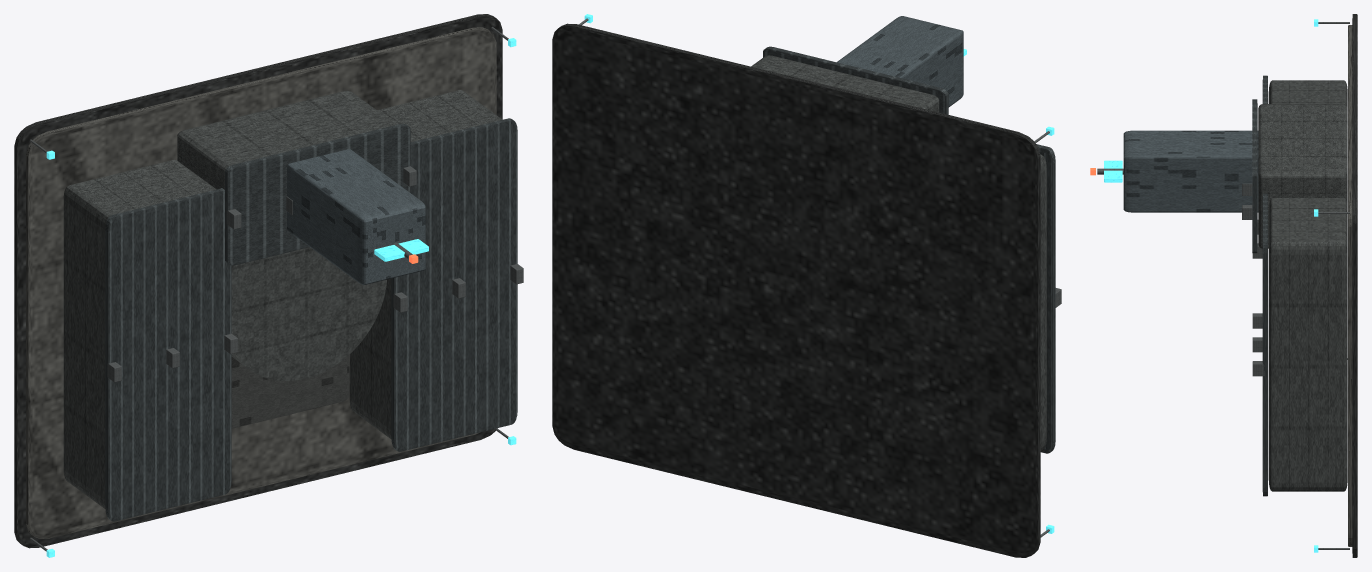
Rendered from b-27-academy-lod0.glb.
3 views of the same model, side by side, from view 1: azimuth 30°, elevation 25°; view 2: azimuth 150°, elevation 25°; view 3: azimuth 270°, elevation 25° (orthographic). The views are drawn at different scales.
Parts seen in each view (by area): view 1: foundation_inner_pad, academy_west_roof, academy_east_roof, academy_west_main_hall, academy_dome_hall, foundation, academy_tower, academy_north_roof, academy_north_main_hall, academy_east_main_hall, primary_courtyard, academy_beacon_array_0; view 2: foundation, academy_tower, academy_north_main_hall, academy_west_roof, academy_west_main_hall, academy_north_roof; view 3: academy_east_main_hall, academy_tower, academy_north_main_hall, foundation, foundation_inner_pad, academy_west_main_hall, academy_east_roof, academy_north_roof, academy_beacon_array_0.
Part boxes in pixels (x1,y1,x2,y2): foundation_inner_pad: (26, 27, 496, 538); academy_west_roof: (105, 188, 231, 521); academy_east_roof: (391, 118, 517, 451); academy_west_main_hall: (63, 159, 216, 508); academy_dome_hall: (231, 247, 386, 380); foundation: (14, 14, 502, 548); academy_tower: (287, 149, 425, 284); academy_north_roof: (225, 123, 410, 265); academy_north_main_hall: (177, 90, 396, 189); academy_east_main_hall: (349, 90, 502, 439); primary_courtyard: (231, 355, 349, 428); academy_beacon_array_0: (374, 239, 428, 261); foundation: (552, 23, 1040, 557); academy_tower: (837, 16, 963, 107); academy_north_main_hall: (751, 55, 939, 112); academy_west_roof: (1036, 144, 1055, 453); academy_west_main_hall: (1040, 154, 1046, 451); academy_north_roof: (763, 46, 948, 114); academy_east_main_hall: (1268, 198, 1347, 491); academy_tower: (1123, 130, 1258, 212); academy_north_main_hall: (1258, 104, 1347, 248); foundation: (1352, 14, 1357, 557); foundation_inner_pad: (1348, 25, 1352, 546); academy_west_main_hall: (1268, 80, 1347, 107); academy_east_roof: (1262, 193, 1267, 496); academy_north_roof: (1252, 99, 1257, 253); academy_beacon_array_0: (1104, 160, 1122, 182).
Size of what is drawn, in the model's own units: 18 by 15 by 10.17.
Materials: 10 (10 with a texture image).
